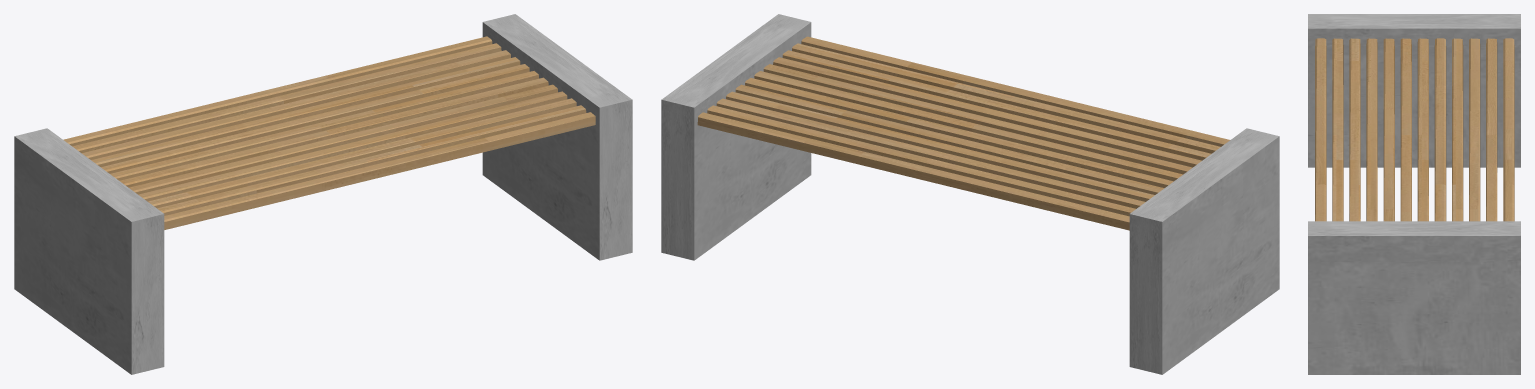
File: bench1.fbx
The picture shows the model from 3 angles, left to right: view 1: azimuth 30°, elevation 25°; view 2: azimuth 150°, elevation 25°; view 3: azimuth 270°, elevation 25°; orthographic projection. The views are drawn at different scales.
Visible parts, largest first — view 1: Bench1; view 2: Bench1; view 3: Bench1.
Part boxes in pixels (<box>): Bench1: <box>14,14,632,374</box>; Bench1: <box>661,14,1279,374</box>; Bench1: <box>1308,14,1520,374</box>.
Bounding box in the file's own units: 150 × 43.77 × 60.73.
